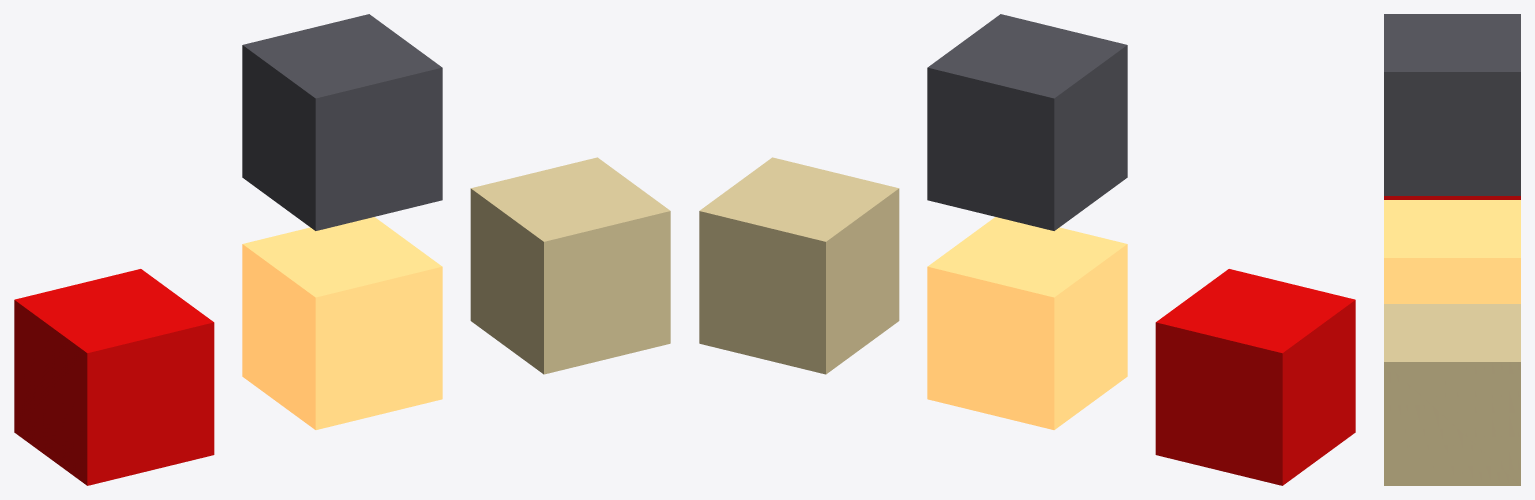
Rendered from animation_pointer.gltf.
3 renders of one model, left to right at view 1: azimuth 30°, elevation 25°; view 2: azimuth 150°, elevation 25°; view 3: azimuth 270°, elevation 25°, orthographic. The views are drawn at different scales.
Visible parts, largest first — view 1: ColorCycle, MetalRough, Iridescent, Breathing; view 2: ColorCycle, MetalRough, Iridescent, Breathing; view 3: MetalRough, Iridescent, Breathing, ColorCycle.
Boxes of the visible parts, <box> form: ColorCycle: <box>14,269,214,485</box>; MetalRough: <box>470,157,670,374</box>; Iridescent: <box>242,14,442,230</box>; Breathing: <box>242,217,442,429</box>; ColorCycle: <box>1155,269,1355,485</box>; MetalRough: <box>699,157,899,374</box>; Iridescent: <box>927,14,1127,230</box>; Breathing: <box>927,217,1127,429</box>; MetalRough: <box>1384,304,1520,485</box>; Iridescent: <box>1384,14,1520,195</box>; Breathing: <box>1384,200,1520,303</box>; ColorCycle: <box>1384,196,1520,199</box>.
Size of the model in its own units: 4.6 by 2.5 by 1.
